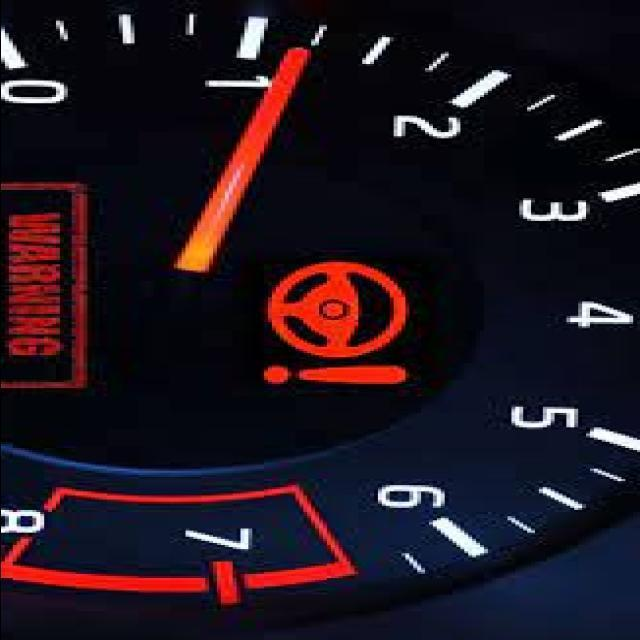Electronic Power Steering: (256, 262, 410, 386)
